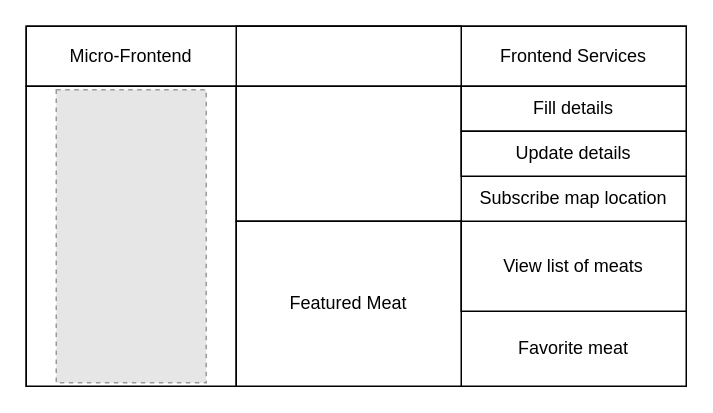
Image size: 713x413. Some labels were removed from this diagram. Grey dashed boxes stand in for pictures. Here are the shapes that lost their labels. From the top down, the centre of each, then its label:
the point at 348,55: Views
the point at 348,153: Supermarket Search
